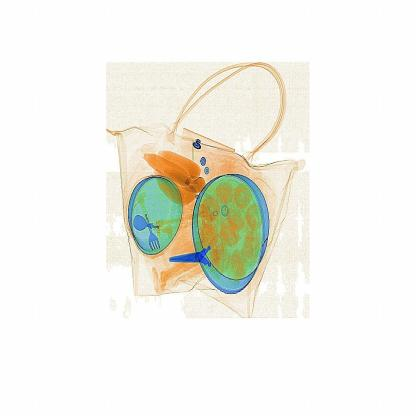gun: (168, 228, 232, 283)
